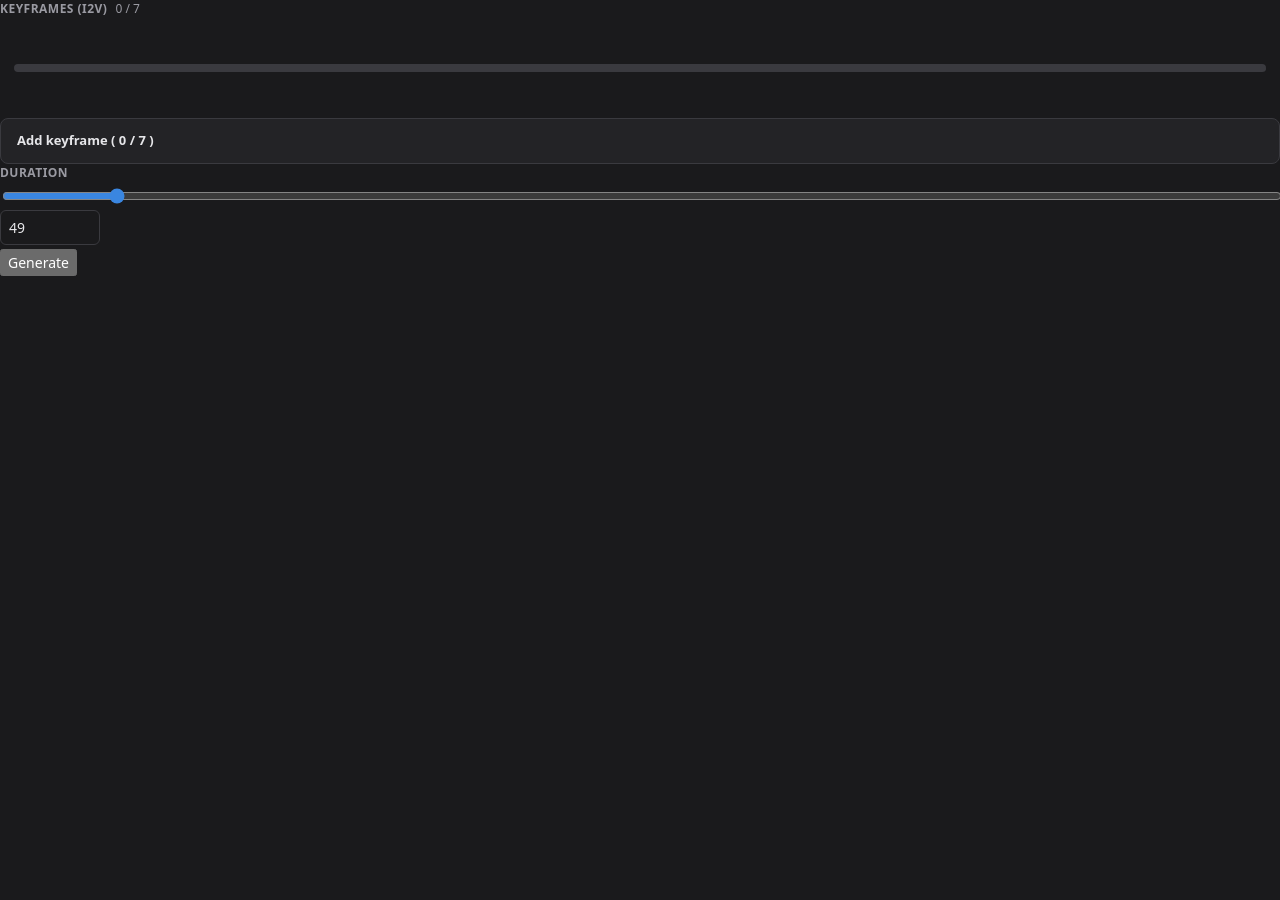
Test case: KeyframesPanel + duration-shrink guard (SingleScreen wiring) › cancelling the shrink restores the pre-edit duration and keeps the keyframe
Click the button "Add keyframe ( 0 / 7 )" at [85, 140], box [0,118,1279,164]
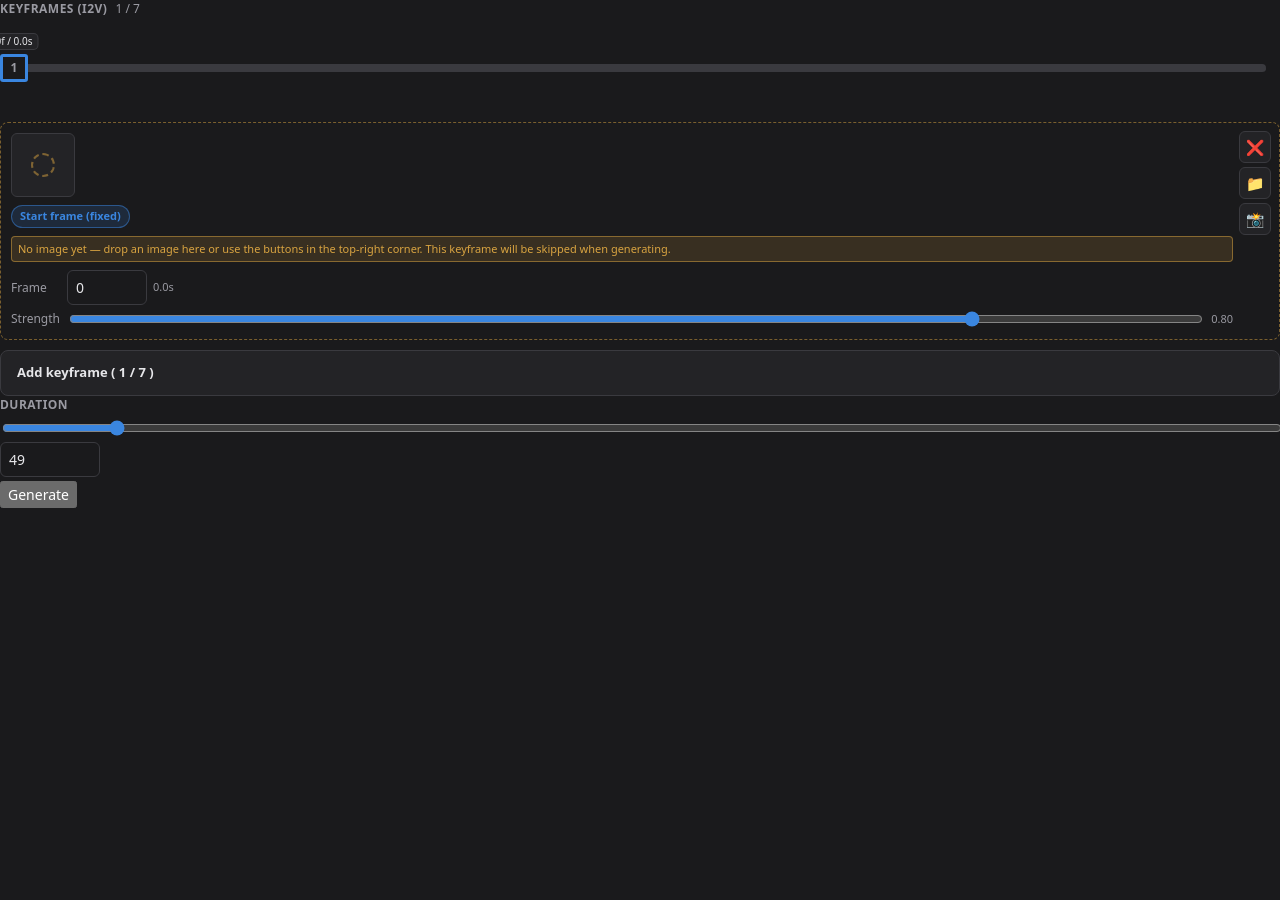
Replace the text in the number field labelled "Frame 0.0s" with "41" at [107, 288], box [67,270,147,305]
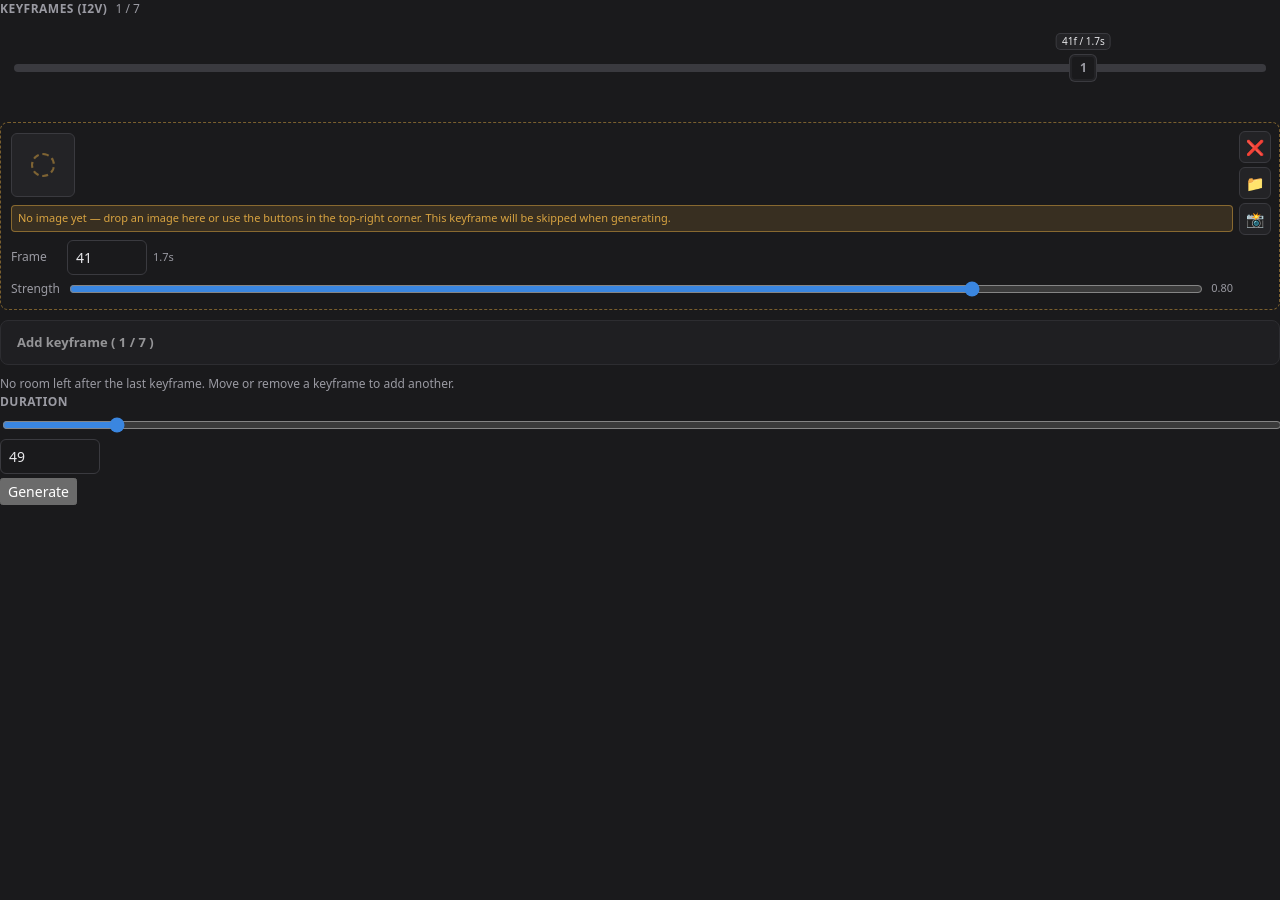
Replace the text in the 2nd number field with "9" at [50, 456], box [0,439,100,474]
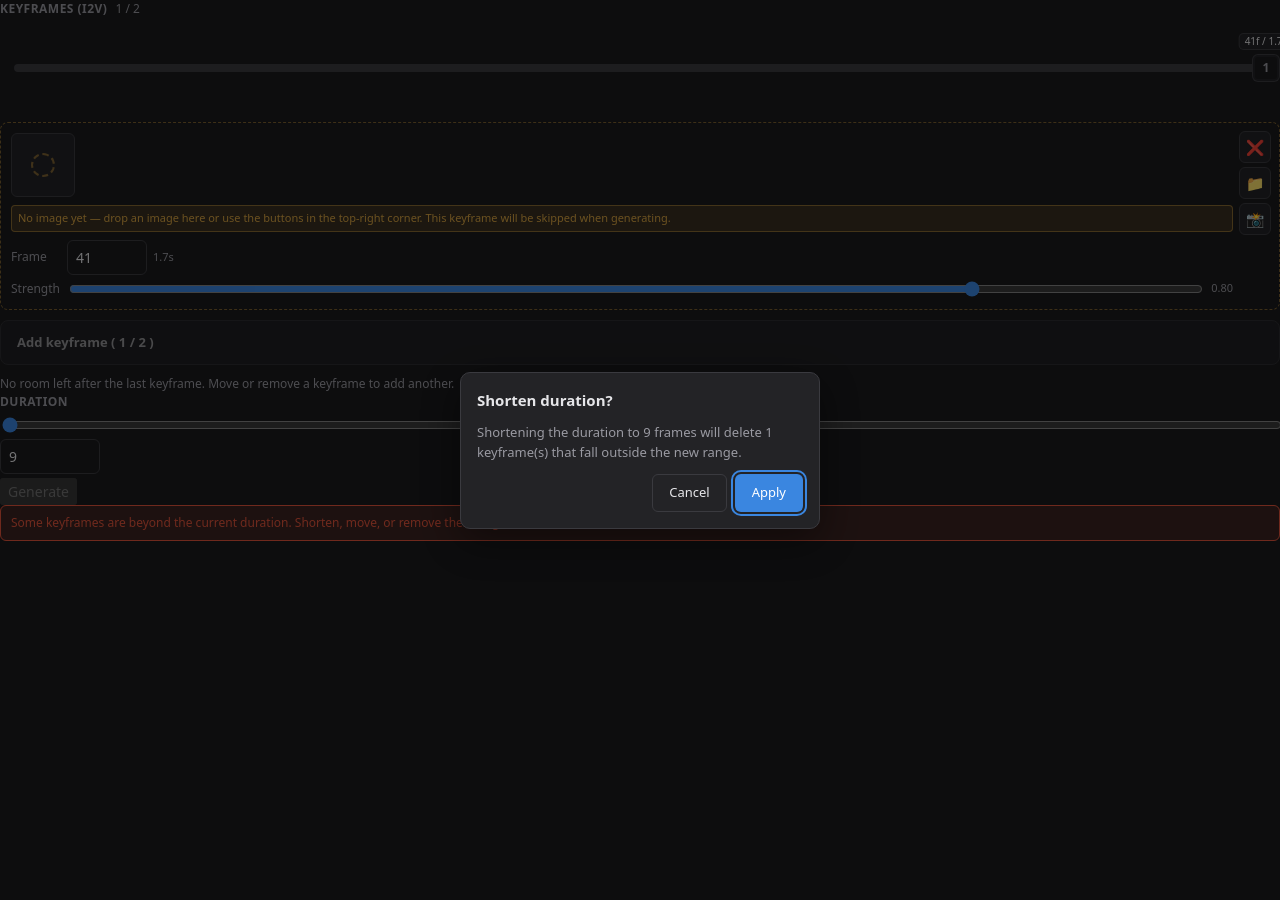
Expected: the heading "Shorten duration?" is shown, [477,390,613,410]
Click the button "Cancel" at [689, 493], box [652,474,727,512]
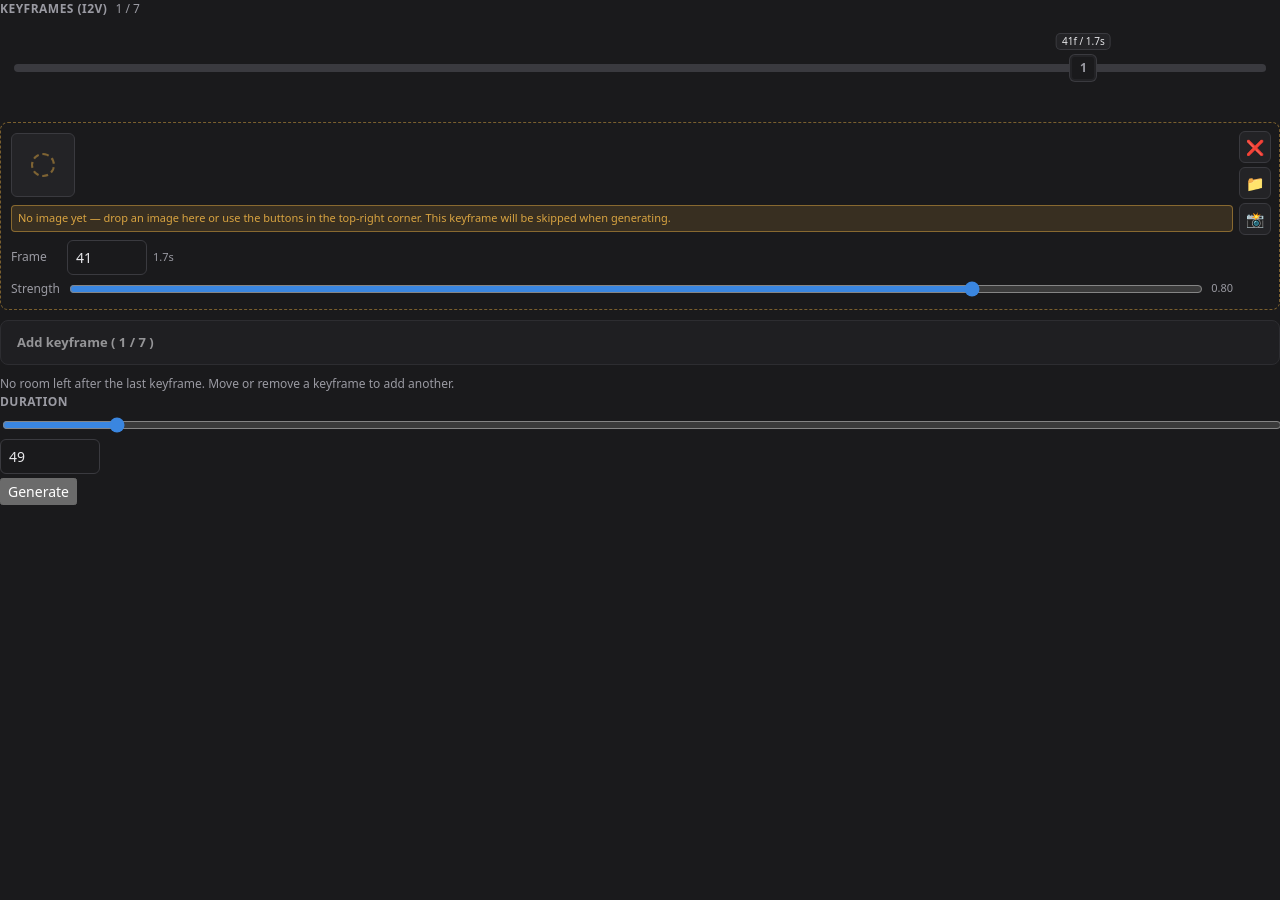
Expected: the number of list items with class "kfc-card" is 1, [0,122,1279,310]
Expected: the 2nd number field holds "49", [0,439,100,474]
Expected: the heading "Shorten duration" is gone
